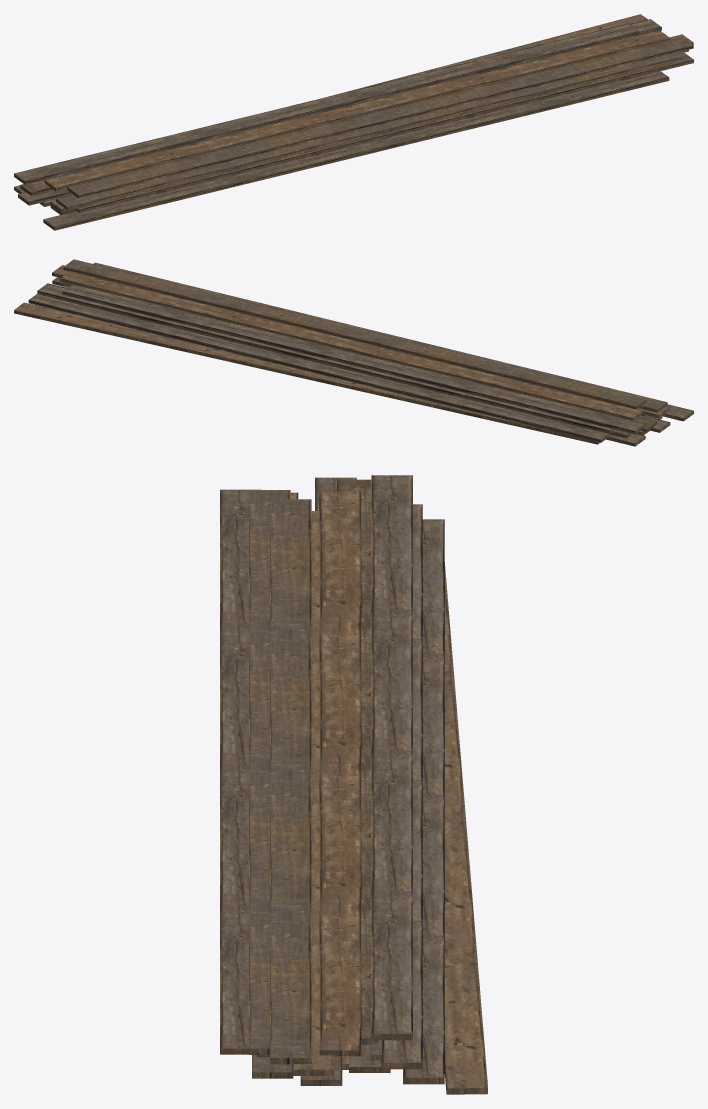
The model's file is WoodPlanks.FBX.
3 views of the same model, one above another, from view 1: azimuth 30°, elevation 25°; view 2: azimuth 150°, elevation 25°; view 3: azimuth 270°, elevation 25° (orthographic). The views are drawn at different scales.
Visible parts, largest first — view 1: Box018; view 2: Box018; view 3: Box018.
Part boxes in pixels (box(x1,y1,x2,y2)): Box018: box(14, 14, 693, 230); Box018: box(14, 259, 693, 446); Box018: box(220, 475, 487, 1094).
Bounding box in the file's own units: 216 × 5.2 × 40.83.
1 material, 1 textured.
